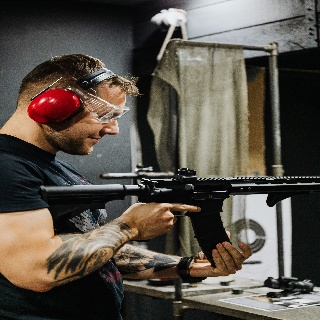rifle: (39, 163, 320, 268)
